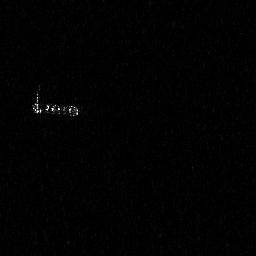ship: (28, 89, 82, 119)
